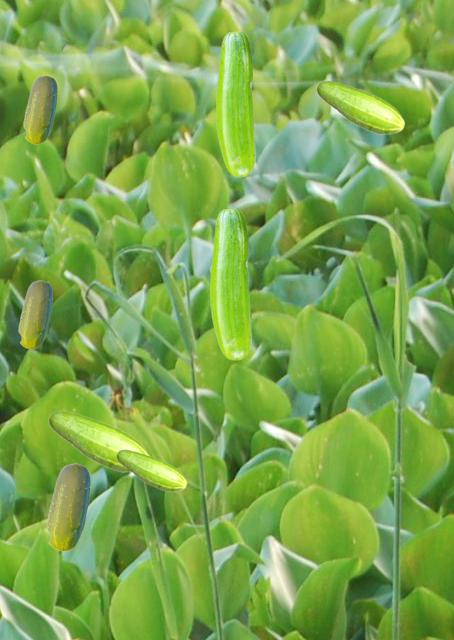cucumber: (48, 410, 150, 472), (210, 208, 250, 359), (216, 31, 254, 176), (316, 80, 404, 134), (46, 463, 89, 550), (116, 449, 186, 491), (23, 75, 56, 143), (18, 280, 51, 348)
